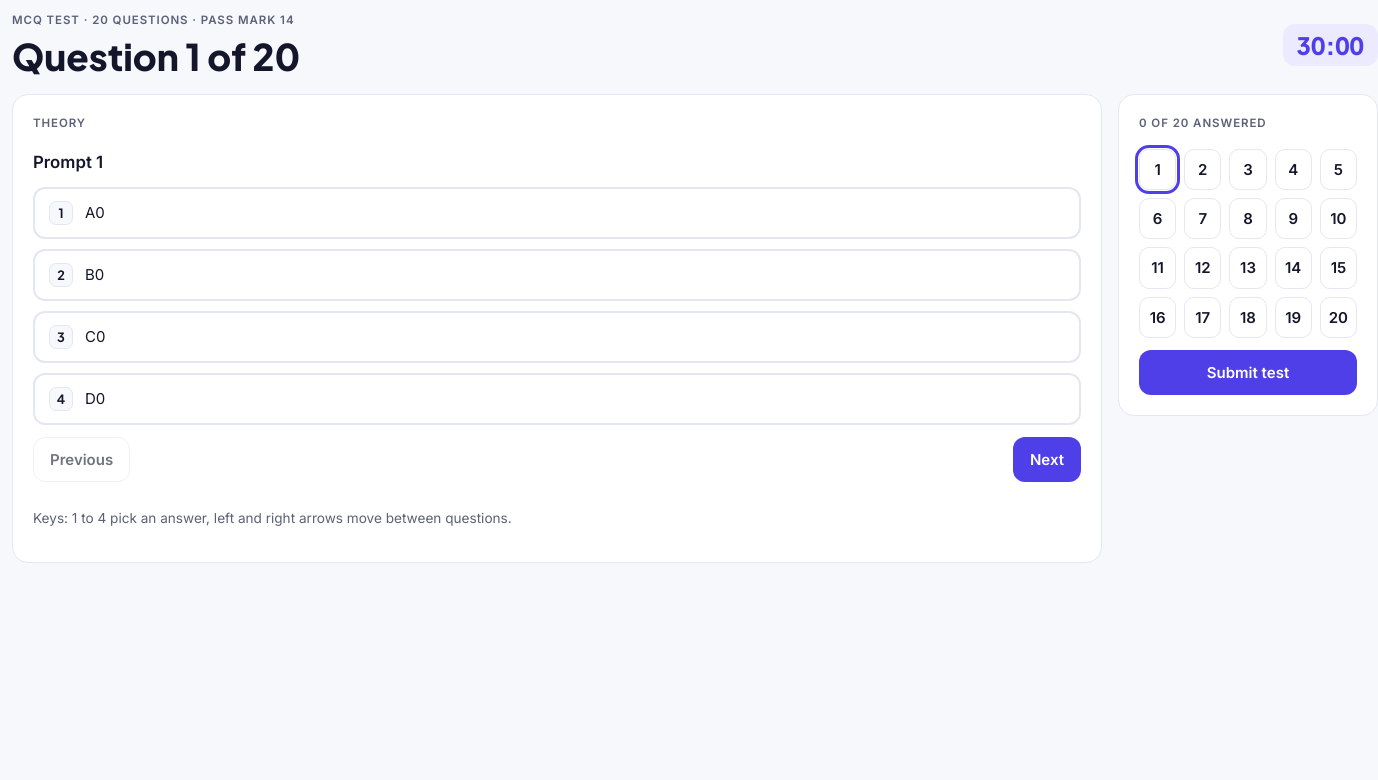
Test: answering › the palette jumps to any question
Expected: the text "Prompt 1" is shown, [33,152,103,172]
Click the button named "Question 11, not answered".
click(1158, 268)  # box [1139,247,1176,289]
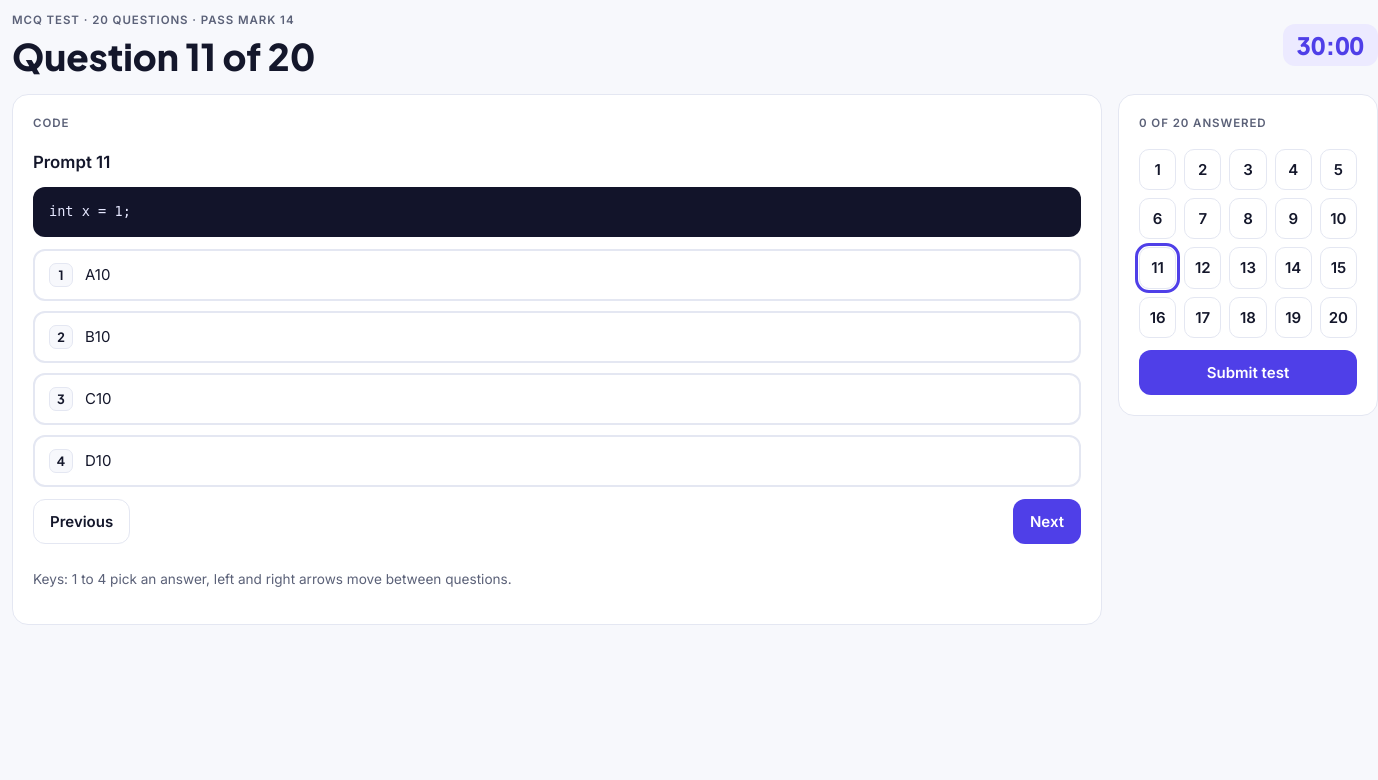
Now the text "Prompt 11" is shown, box [33,152,110,172]
Now the text "int x = 1;" is shown, box [49,203,131,219]
